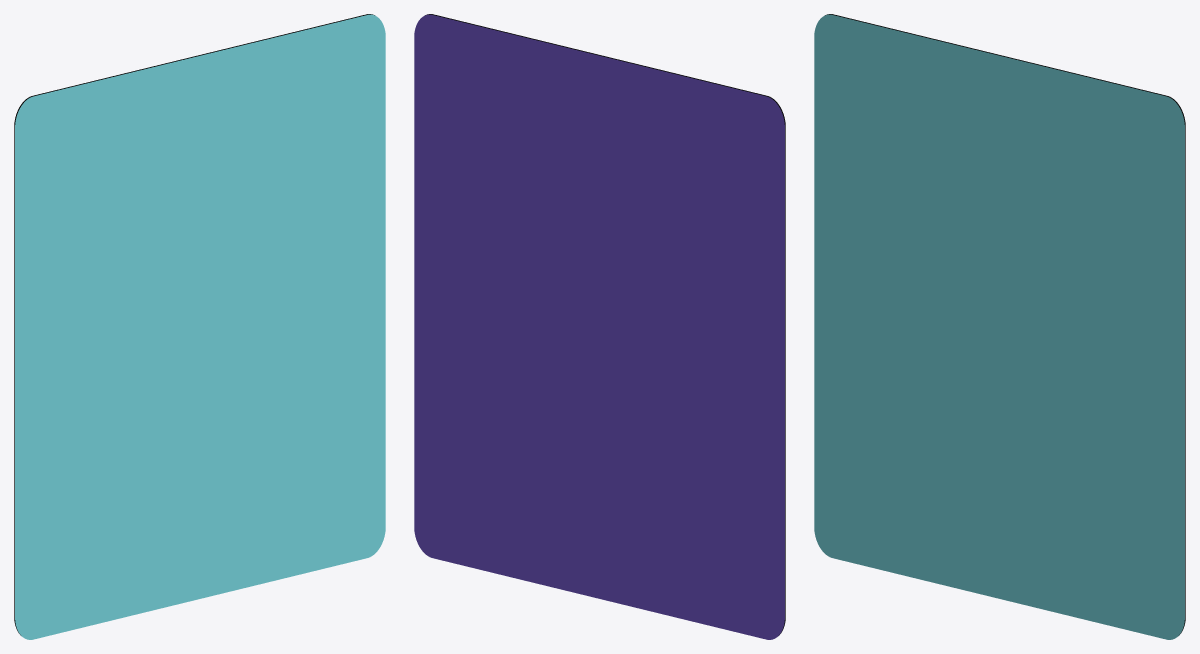
File: ccgcard.fbx
3 views of the same model, side by side, from view 1: azimuth 30°, elevation 25°; view 2: azimuth 150°, elevation 25°; view 3: azimuth 330°, elevation 25° (orthographic).
Parts seen in each view (by area): view 1: Cube.001; view 2: Cube.001; view 3: Cube.001.
Boxes of the visible parts, x1,y1,x2,y2 form: Cube.001: (14, 14, 385, 639); Cube.001: (414, 14, 785, 639); Cube.001: (814, 14, 1185, 639).
Bounding box in the file's own units: 500 × 700 × 2.
